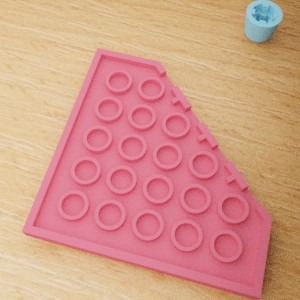lego: (21, 47, 272, 300), (244, 0, 282, 42)
